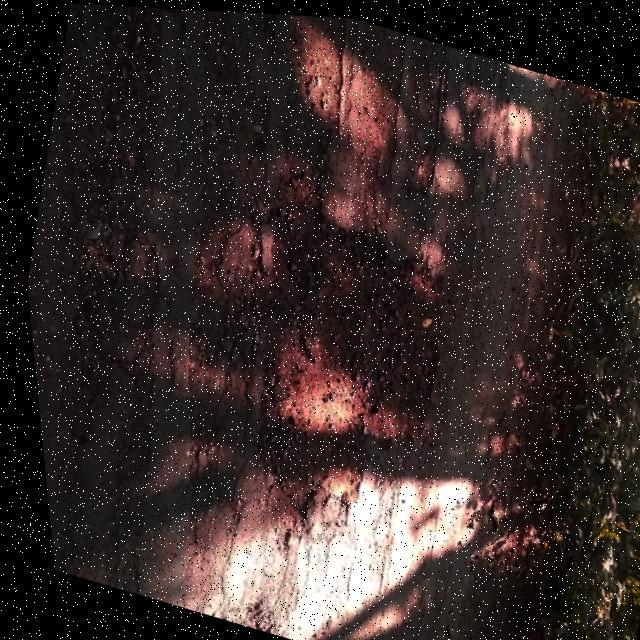pothole: (152, 145, 489, 576)
